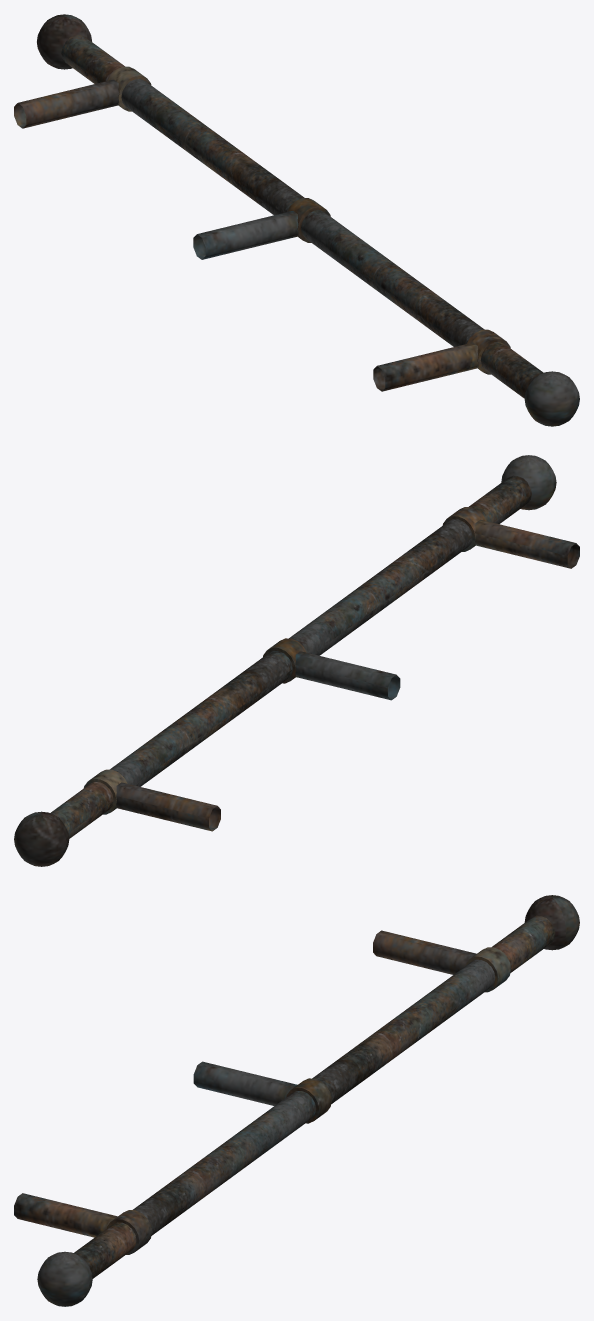
The model's file is Guard_Rail_2m.glb.
3 renders of one model, top to bottom at view 1: azimuth 30°, elevation 25°; view 2: azimuth 150°, elevation 25°; view 3: azimuth 330°, elevation 25°, orthographic.
Visible parts, largest first — view 1: Guard_Rail_2m; view 2: Guard_Rail_2m; view 3: Guard_Rail_2m.
Part boxes in pixels (bbox=[...]): Guard_Rail_2m: bbox=[14, 14, 579, 426]; Guard_Rail_2m: bbox=[14, 455, 579, 866]; Guard_Rail_2m: bbox=[14, 895, 579, 1306].
Bounding box in the file's own units: 0.2848 × 0.1028 × 1.91.
1 material, 1 textured.
